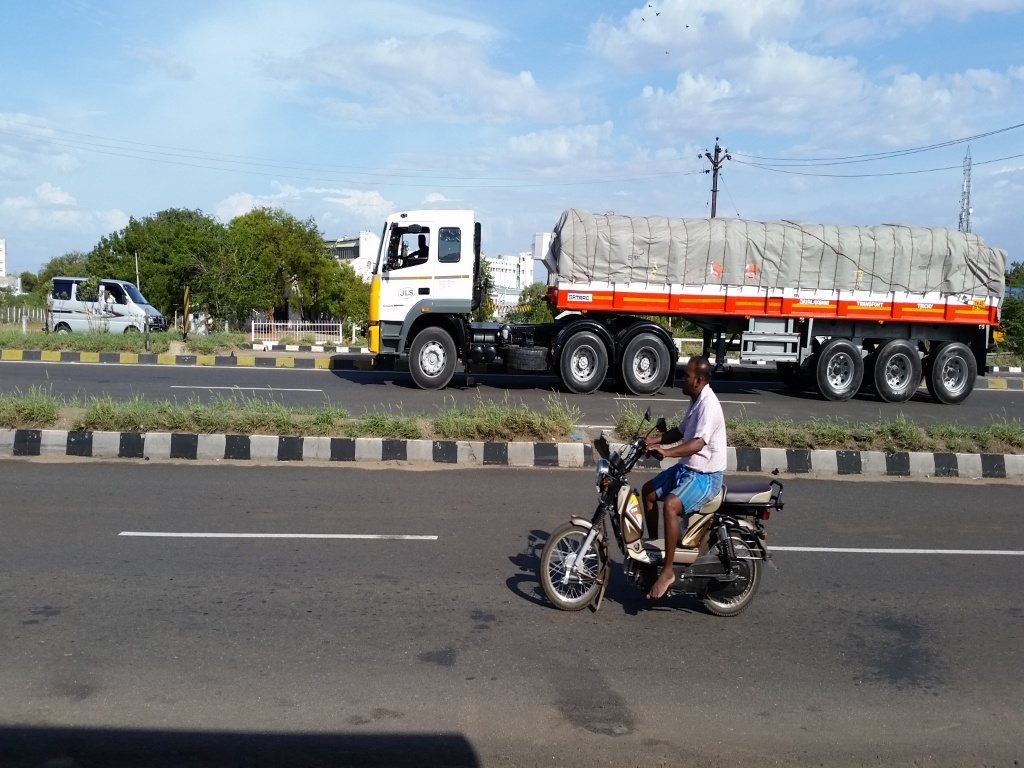biker: (496, 330, 820, 633)
nohelmet: (673, 346, 721, 410)
